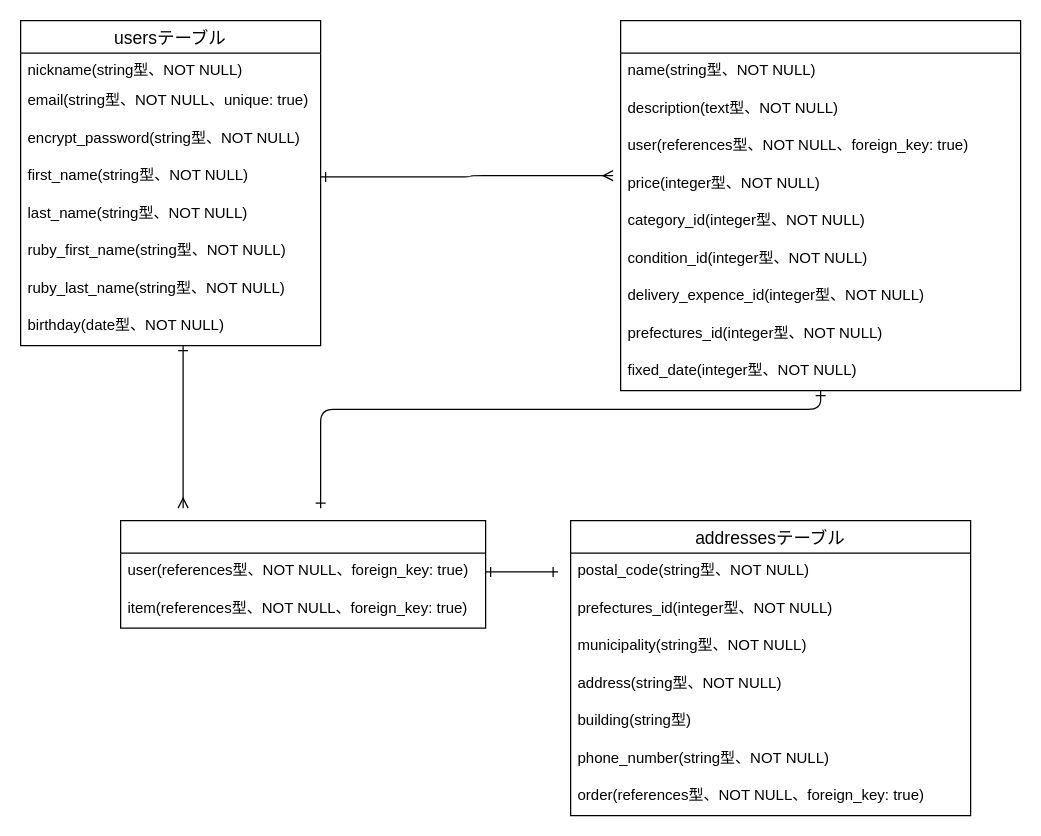
The diagram is 1041 pixels wide and 836 high, and some of its shapes have lost their labels. Here are the shapes that lost their labels. From the top down, the box of each, then its label:
(619, 19, 1021, 391): itemsテーブル
(119, 519, 486, 628): ordersテーブル
